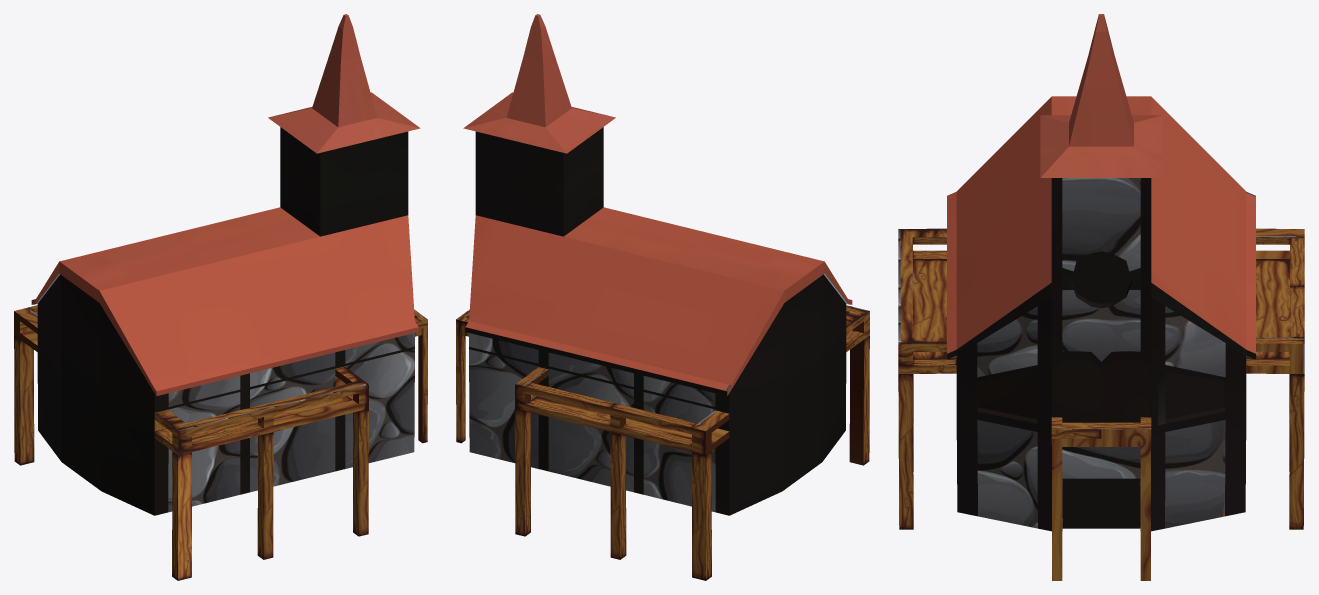
The model's file is iglesia-final.fbx.
3 views of the same model, side by side, from view 1: azimuth 30°, elevation 25°; view 2: azimuth 150°, elevation 25°; view 3: azimuth 270°, elevation 25° (orthographic). The views are drawn at different scales.
Visible parts, largest first — view 1: Cubo; view 2: Cubo; view 3: Cubo.
Part boxes in pixels (x1=…): Cubo: x1=14, y1=14, x2=427, y2=580; Cubo: x1=456, y1=14, x2=869, y2=580; Cubo: x1=898, y1=14, x2=1304, y2=580.
Bounding box in the file's own units: 359 × 465 × 311.
